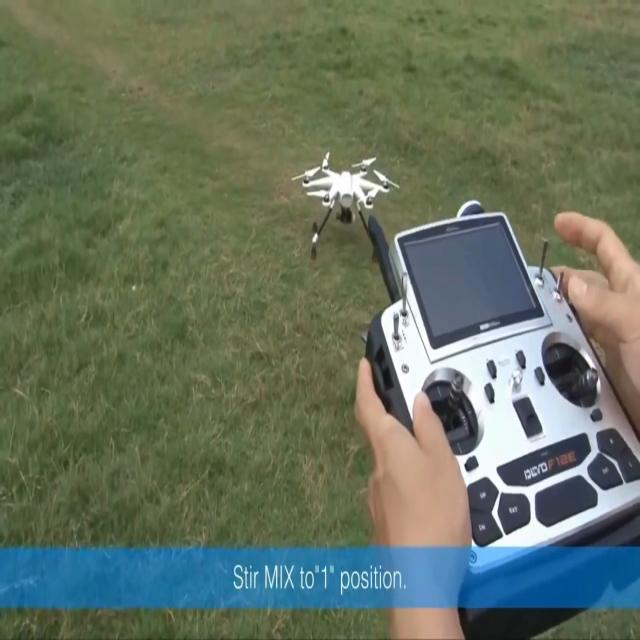drone: (291, 150, 400, 260)
